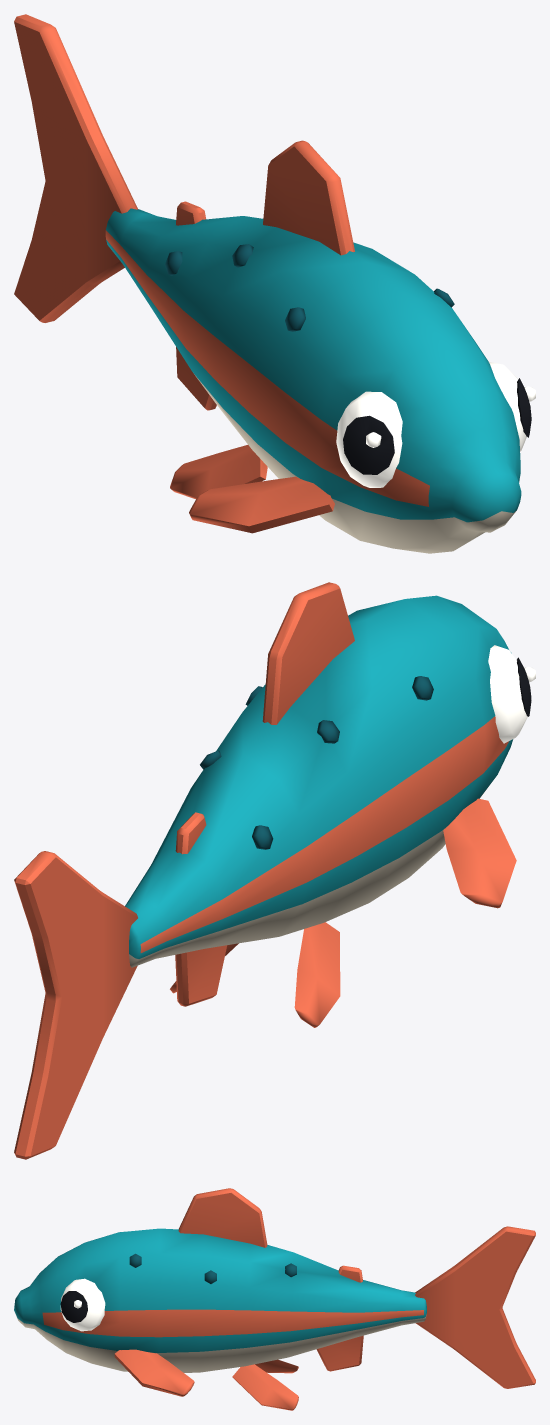
File: fish.glb
The picture shows the model from 3 angles, top to bottom: view 1: azimuth 30°, elevation 25°; view 2: azimuth 150°, elevation 25°; view 3: azimuth 270°, elevation 25°; orthographic projection. The views are drawn at different scales.
Visible parts, largest first — view 1: Trout body turquoise, Trout body coral, Trout body eye white, Trout body pupil, Trout body spots; view 2: Trout body turquoise, Trout body coral, Trout body eye white, Trout body spots; view 3: Trout body turquoise, Trout body coral, Trout body eye white, Trout body pupil, Trout body spots.
Boxes of the visible parts, <box> form: Trout body turquoise: <box>105,208,521,553</box>; Trout body coral: <box>14,14,354,533</box>; Trout body eye white: <box>336,362,535,487</box>; Trout body pupil: <box>343,378,531,474</box>; Trout body spots: <box>165,244,454,331</box>; Trout body turquoise: <box>125,595,513,967</box>; Trout body coral: <box>14,582,516,1159</box>; Trout body eye white: <box>488,645,535,743</box>; Trout body spots: <box>200,676,433,849</box>; Trout body turquoise: <box>14,1228,426,1372</box>; Trout body coral: <box>114,1188,535,1410</box>; Trout body eye white: <box>60,1278,105,1331</box>; Trout body pupil: <box>60,1291,87,1322</box>; Trout body spots: <box>129,1253,296,1283</box>.
Size of the model in its own units: 0.5295 by 0.6054 by 1.41.
